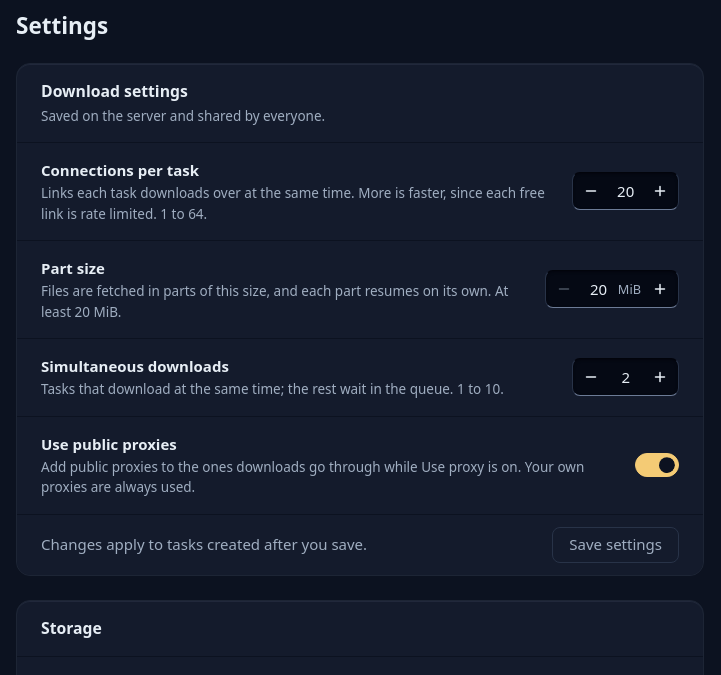
it: Settings › counts unsaved changes and enables Save only when there are some
The image size is (721, 675).
Expected: the button "Save settings" is disabled, [552,527,679,563]
Expected: the text "Changes apply to tasks created after you save." is shown, [41,533,367,556]
Replace the text in the number field labelled "Connections per task" with "32" at (626,191), box [606,180,645,203]
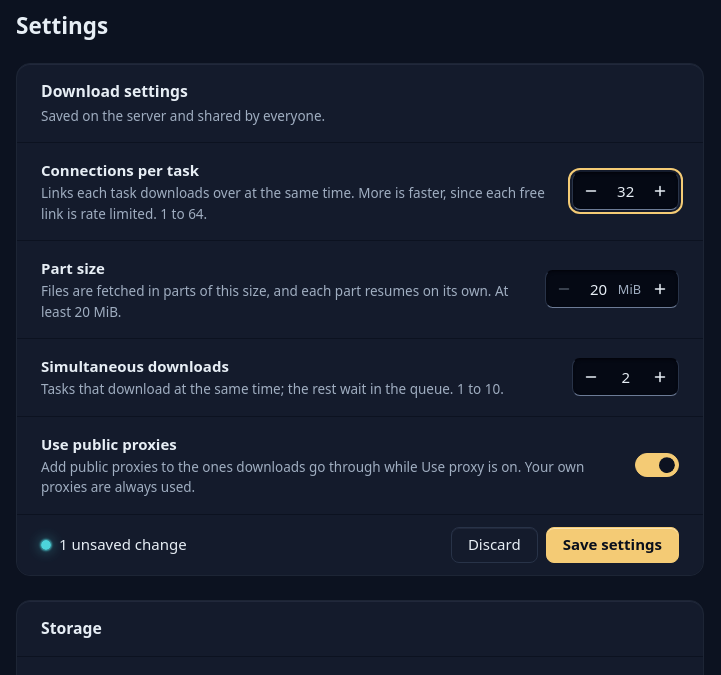
Click the switch named "Use public proxies" at (657,465), box [635,453,679,477]
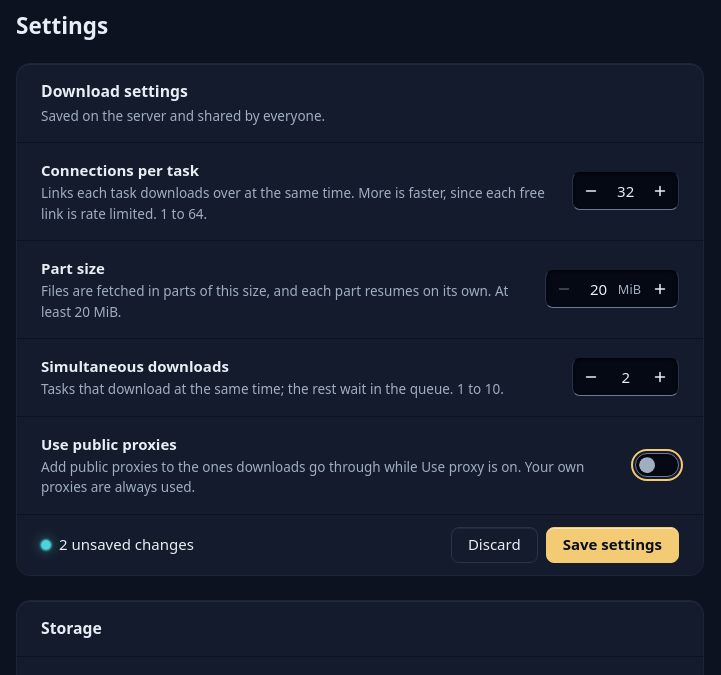
Now the button "Save settings" is enabled, box [546,527,679,563]
Now the text "2 unsaved changes" is shown, box [41,533,194,556]
